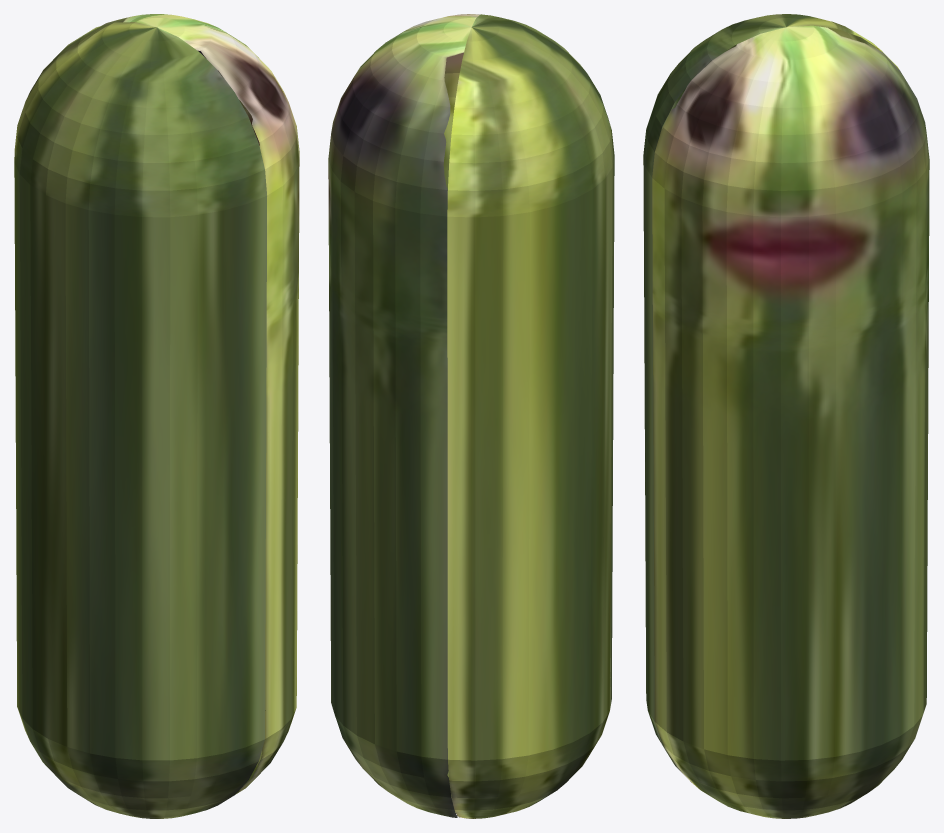
Rendered from xigua7.fbx.
3 renders of one model, left to right at view 1: azimuth 30°, elevation 25°; view 2: azimuth 150°, elevation 25°; view 3: azimuth 270°, elevation 25°, orthographic.
Visible parts, largest first — view 1: 球体; view 2: 球体; view 3: 球体.
Boxes of the visible parts, x1,y1,x2,y2 form: 球体: (14, 14, 299, 818); 球体: (328, 14, 614, 818); 球体: (643, 14, 929, 818).
Bounding box in the file's own units: 200 × 600 × 200.
Materials: 1 (1 with a texture image).
